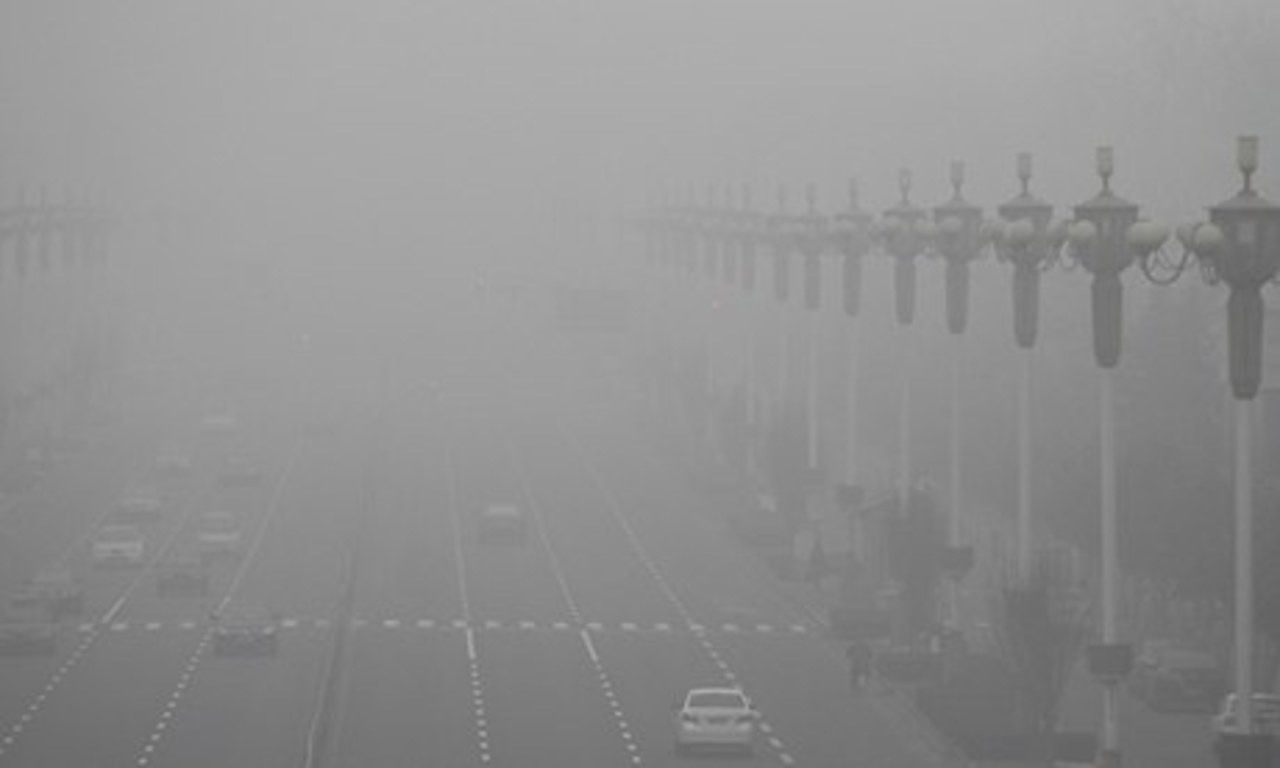car: (674, 688, 761, 754), (1144, 645, 1221, 703), (209, 596, 274, 651), (2, 593, 58, 655), (1207, 693, 1276, 738), (86, 525, 145, 565), (29, 557, 79, 602), (475, 506, 529, 544), (157, 548, 200, 590), (195, 513, 241, 550), (114, 482, 159, 515), (219, 446, 261, 479), (147, 446, 187, 473), (199, 408, 232, 432)
